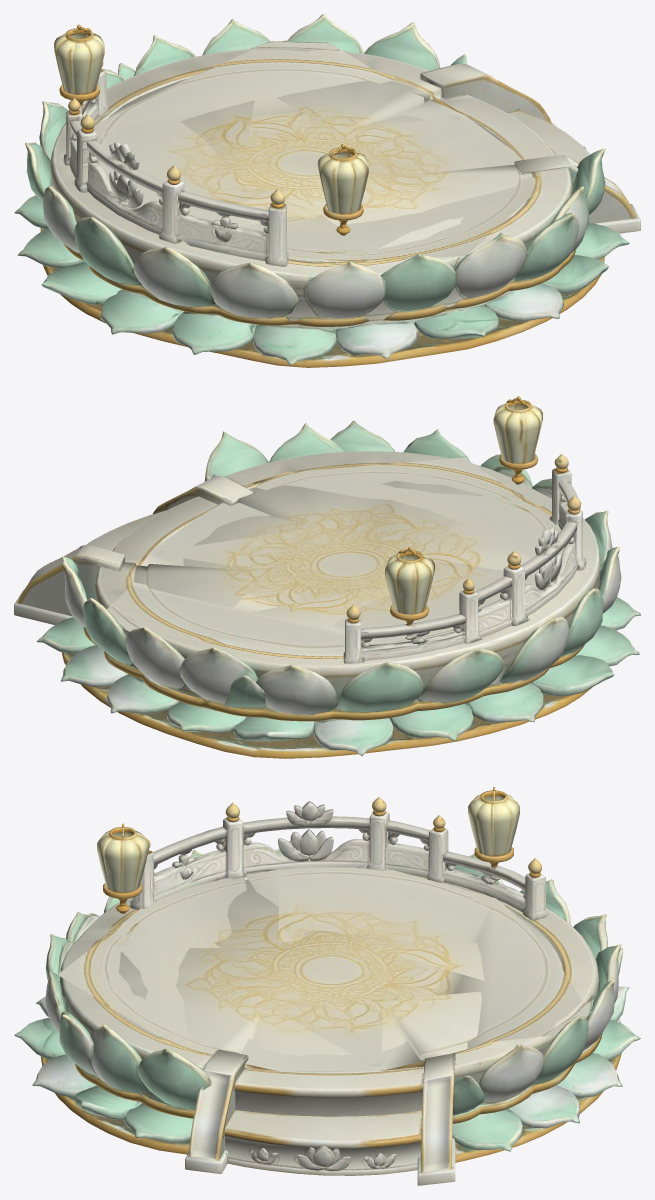
File: buc.glb
The picture shows the model from 3 angles, top to bottom: view 1: azimuth 30°, elevation 25°; view 2: azimuth 150°, elevation 25°; view 3: azimuth 270°, elevation 25°; orthographic projection. The views are drawn at different scales.
Visible parts, largest first — view 1: tripo_node_3533e730-535f-4d9f-86ce-0961f13da46e; view 2: tripo_node_3533e730-535f-4d9f-86ce-0961f13da46e; view 3: tripo_node_3533e730-535f-4d9f-86ce-0961f13da46e.
Part boxes in pixels (bbox=[...]): tripo_node_3533e730-535f-4d9f-86ce-0961f13da46e: bbox=[14, 14, 640, 367]; tripo_node_3533e730-535f-4d9f-86ce-0961f13da46e: bbox=[14, 396, 640, 758]; tripo_node_3533e730-535f-4d9f-86ce-0961f13da46e: bbox=[14, 787, 640, 1185].
Bounding box in the file's own units: 2.43 × 0.8 × 2.37.
Materials: 1 (1 with a texture image).
